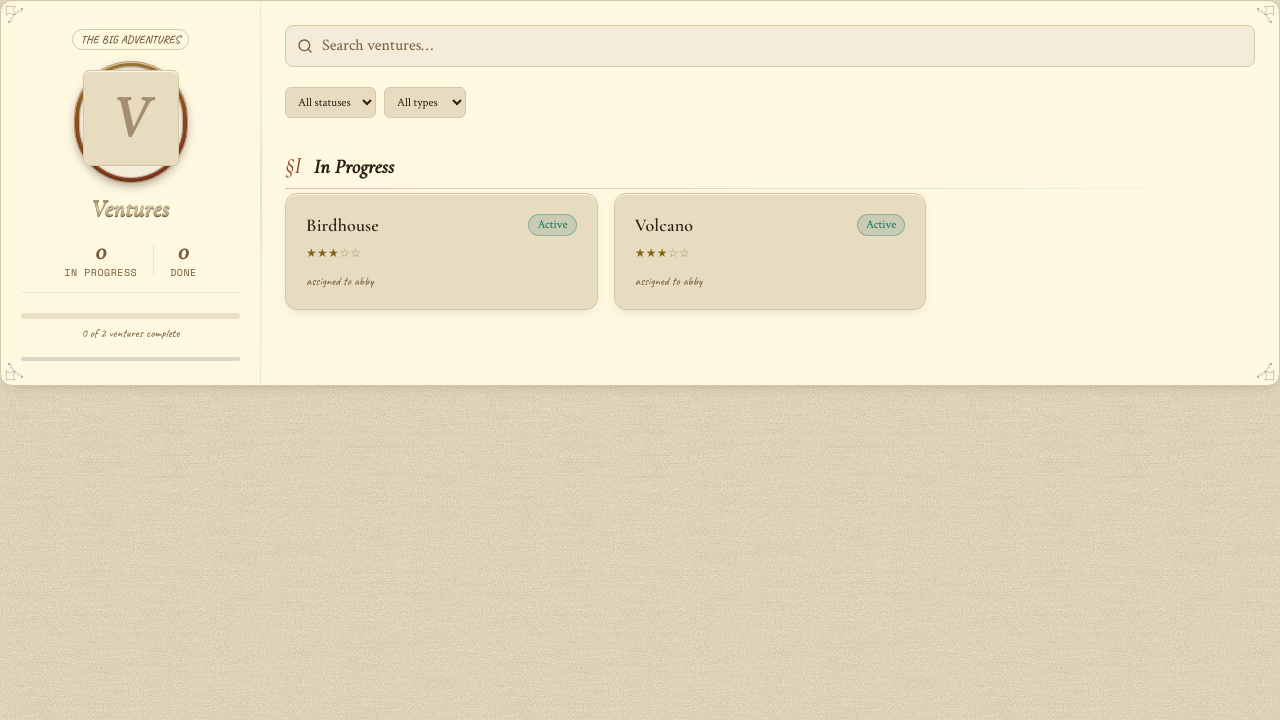
Test: Projects › filters ventures by title via the search input
The width and height of the screenshot is (1280, 720).
Check: the heading "Birdhouse" is shown, box left=306, top=214, right=379, bottom=236
Type "volcano" into the search field named "filter ventures" at (770, 46), box left=285, top=25, right=1255, bottom=67
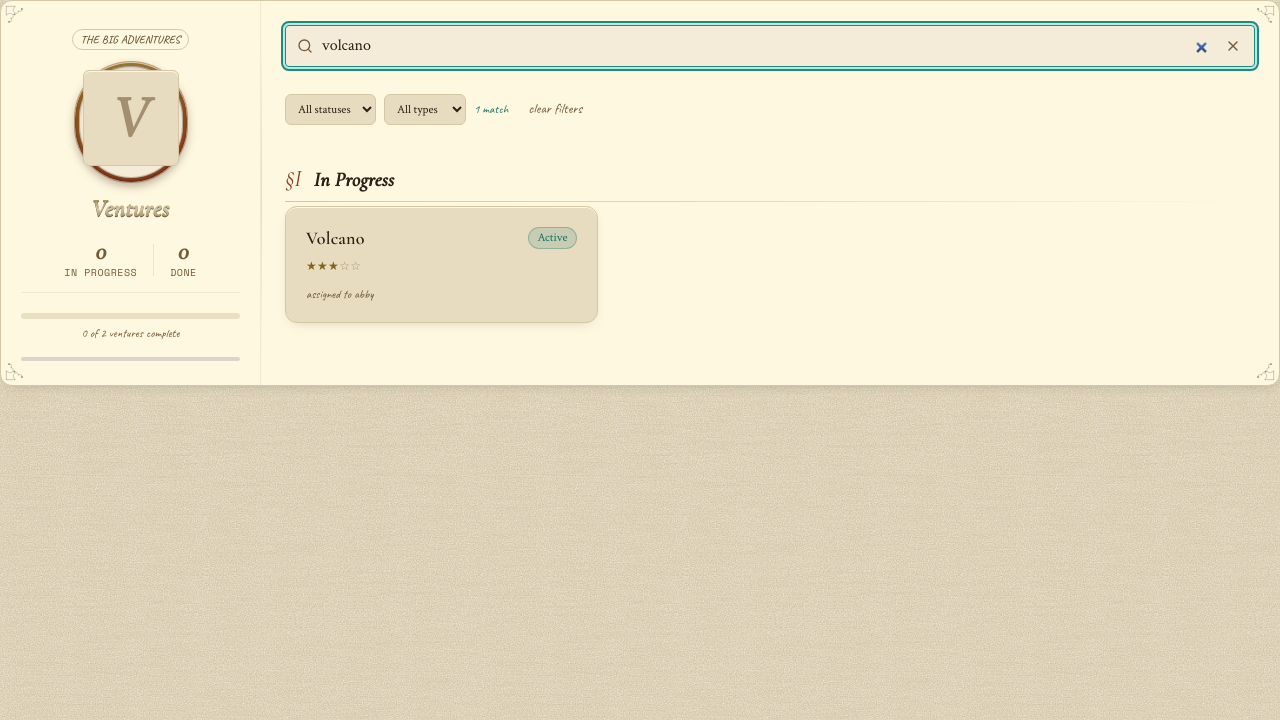
Check: the heading "Volcano" is shown, box left=306, top=227, right=365, bottom=250
Check: the button "Birdhouse" is gone
